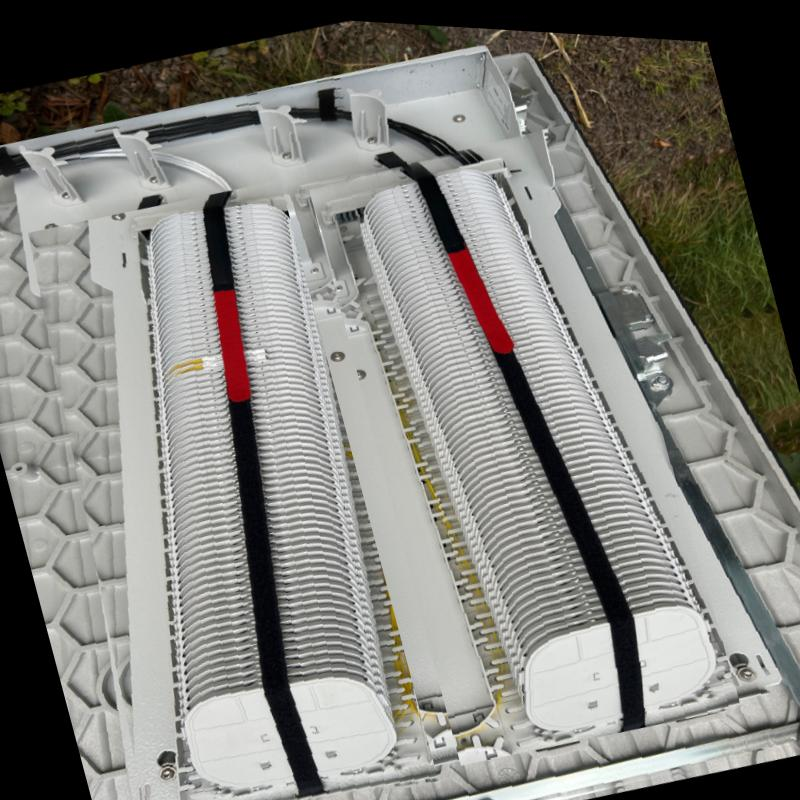NT-Gehause: (0, 36, 800, 800)
Spleiskassetten: (314, 135, 738, 755), (115, 178, 428, 800)
